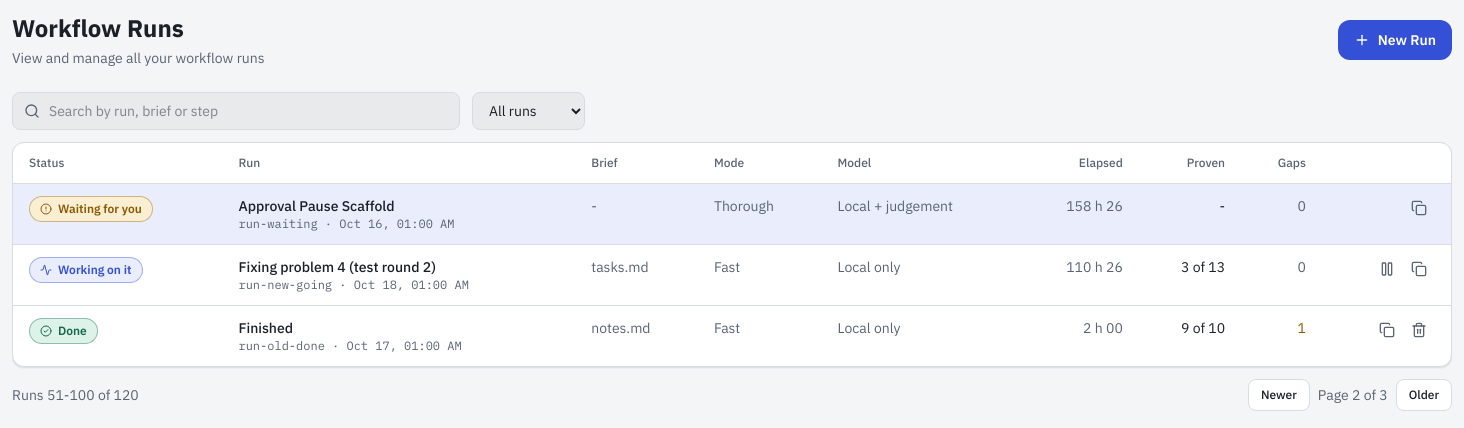
Test: the pages of runs › asks for the page in the address, says which runs it shows, and moves to older ones
Expected: the text "Runs 51-100 of 120" is shown, [12,385,139,405]
Click the button "Older".
click(1424, 395)  # box [1396,379,1452,411]
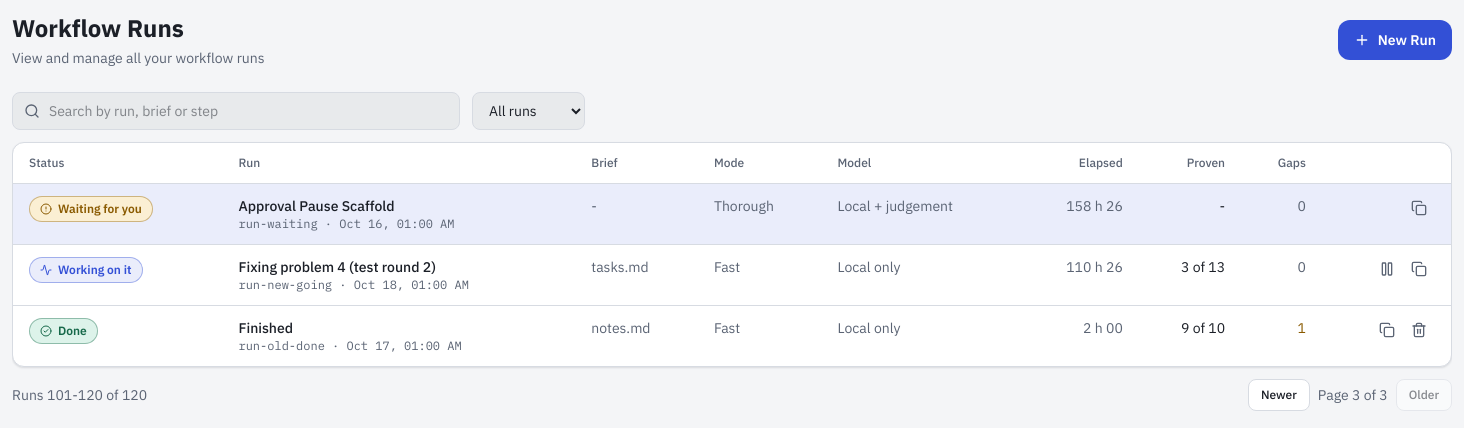
Now the text "Page 3 of 3" is shown, box [1318,385,1388,405]
Now the button "Older" is disabled, box [1396,379,1452,411]
